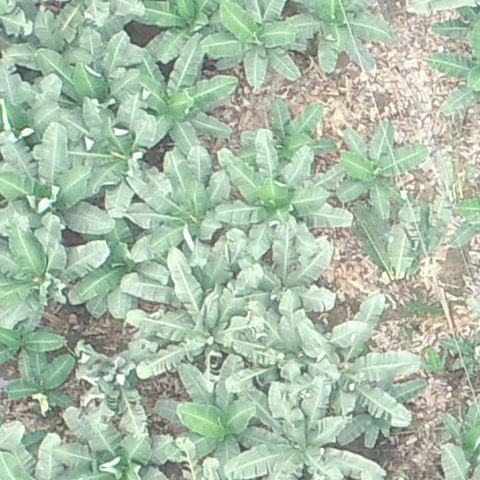Banana-plant: (294, 294, 419, 424), (133, 260, 264, 379), (220, 140, 352, 256), (154, 358, 288, 463), (1, 126, 112, 252), (230, 401, 381, 480), (138, 42, 236, 159), (0, 217, 102, 328), (130, 153, 232, 262), (38, 30, 139, 139), (226, 292, 320, 404), (241, 224, 340, 326), (338, 120, 426, 216), (203, 0, 301, 84), (68, 221, 148, 320), (287, 0, 386, 71), (59, 419, 172, 480), (138, 0, 228, 63), (262, 98, 340, 164), (6, 352, 74, 410)
